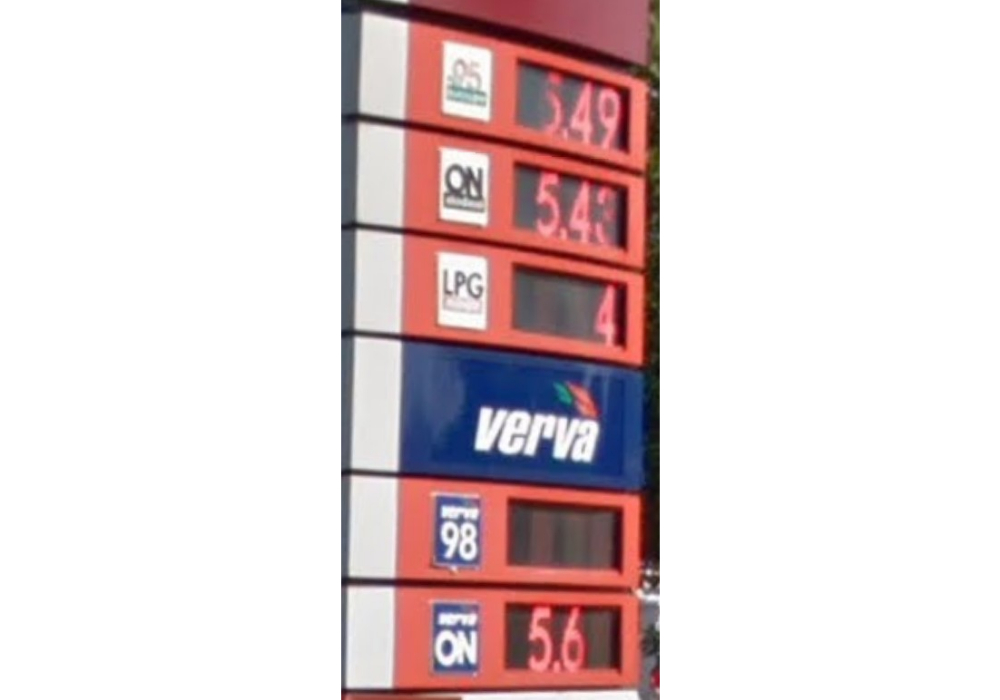LPG: (434, 248, 489, 332)
ON: (439, 138, 489, 228), (428, 596, 480, 678)
PB98: (431, 485, 485, 573)
